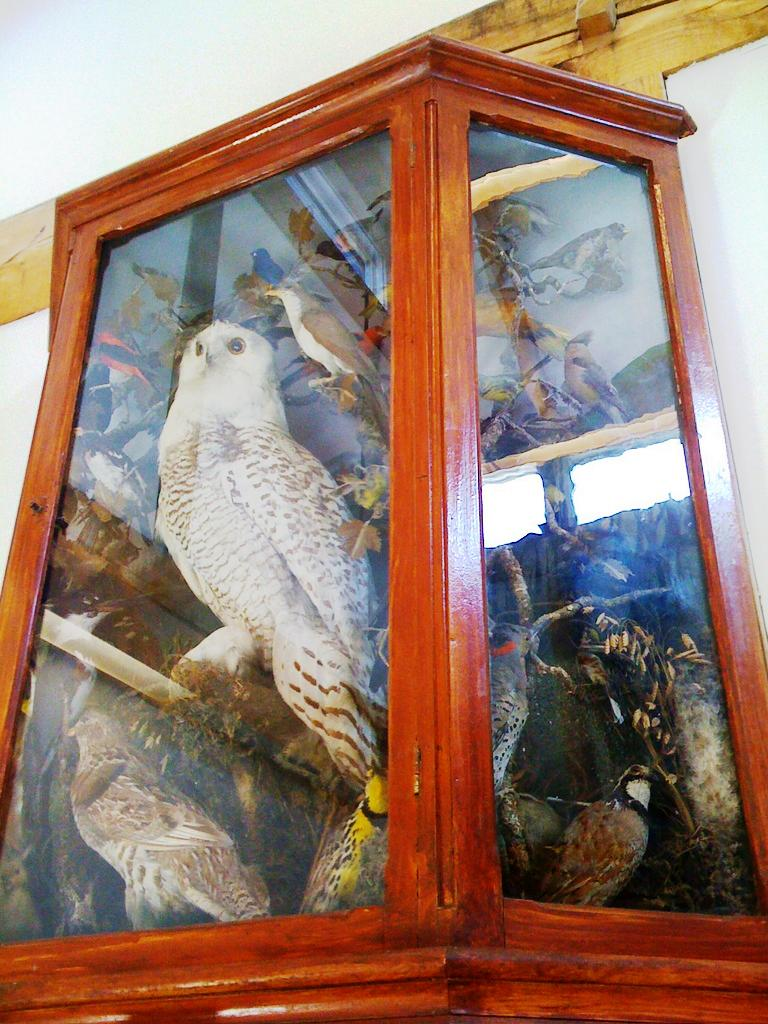Owl: (156, 318, 389, 797)
